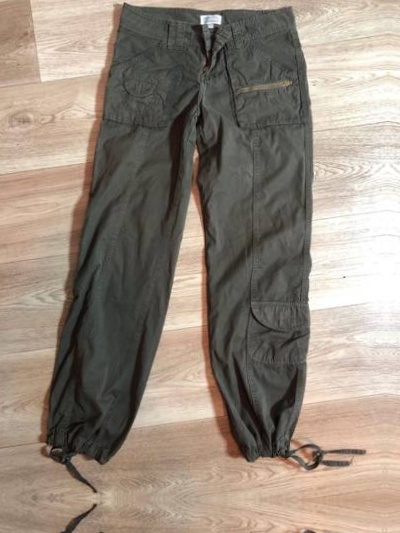Pants: (27, 16, 340, 483), (23, 516, 336, 533)
